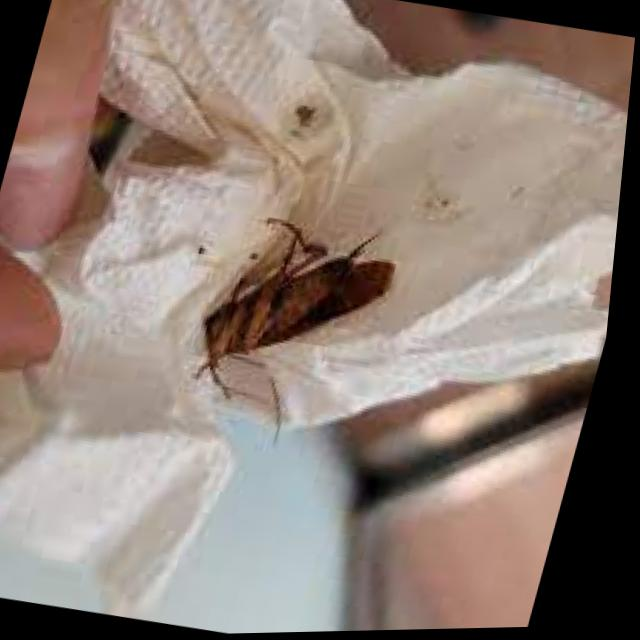Cockroach: (142, 175, 428, 476)
